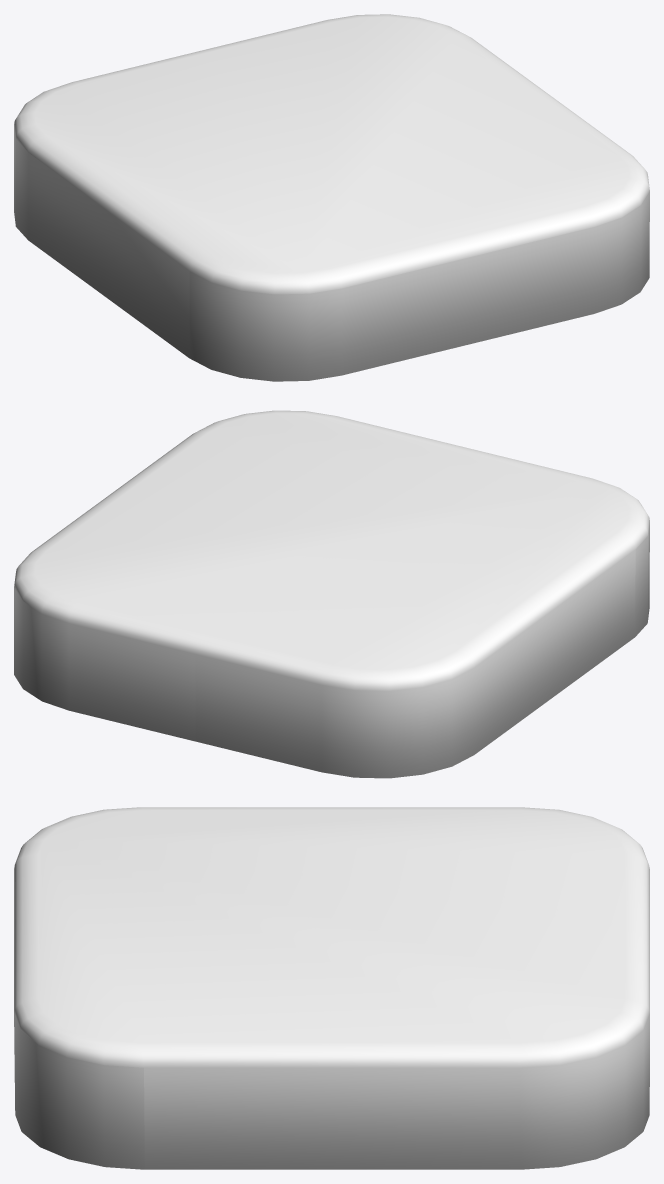
The model's file is arrow_tile_Jan2026_2.fbx.
3 renders of one model, top to bottom at view 1: azimuth 30°, elevation 25°; view 2: azimuth 150°, elevation 25°; view 3: azimuth 270°, elevation 25°, orthographic. The views are drawn at different scales.
Parts seen in each view (by area): view 1: ArrowTile_Jan2; view 2: ArrowTile_Jan2; view 3: ArrowTile_Jan2.
Part boxes in pixels (x1,y1,x2,y2): ArrowTile_Jan2: (14, 14, 649, 381); ArrowTile_Jan2: (14, 410, 649, 778); ArrowTile_Jan2: (14, 807, 649, 1169).
Bounding box in the file's own units: 200 × 42.95 × 212.
